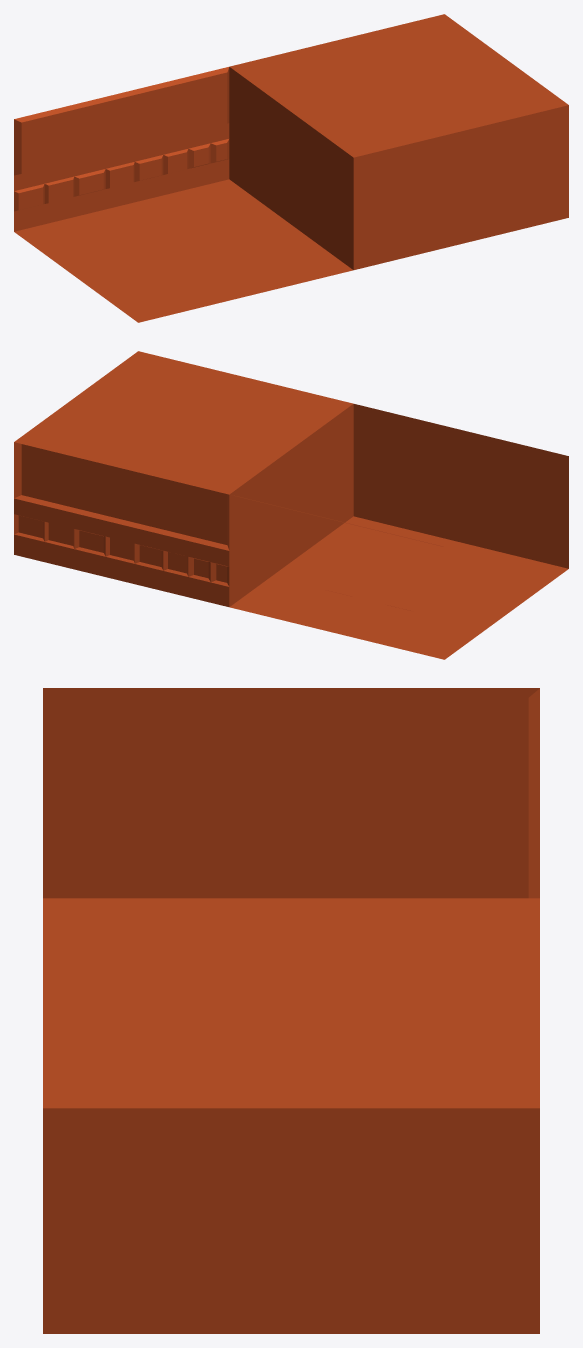
The model's file is warehouse.glb.
3 renders of one model, top to bottom at view 1: azimuth 30°, elevation 25°; view 2: azimuth 150°, elevation 25°; view 3: azimuth 270°, elevation 25°, orthographic. The views are drawn at different scales.
Parts seen in each view (by area): view 1: Cube; view 2: Cube; view 3: Cube.
Boxes of the visible parts, box(x1,y1,x2,y2) form: Cube: box(14, 14, 568, 322); Cube: box(14, 351, 568, 659); Cube: box(43, 688, 539, 1333).
Bounding box in the file's own units: 4 × 1 × 2.
